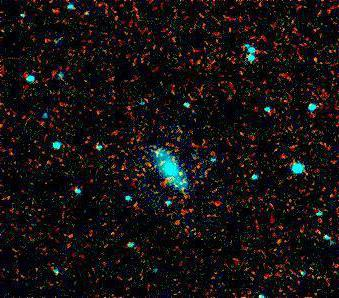star: (163, 162, 193, 192)
